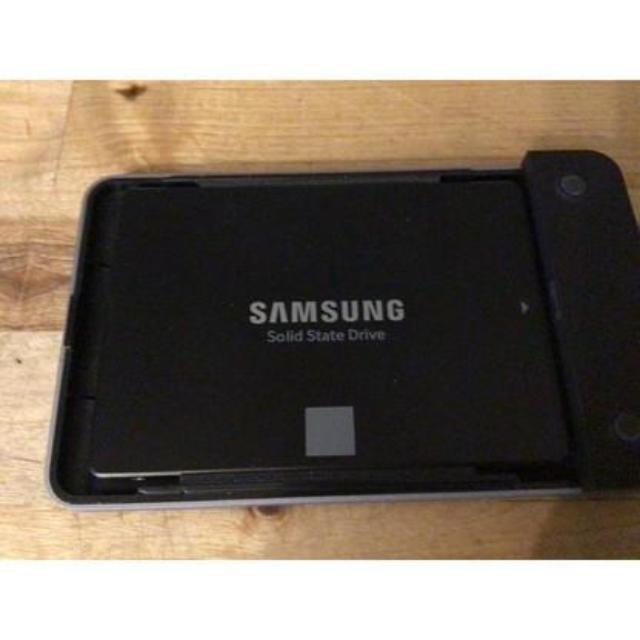DISK: (82, 170, 576, 482)
